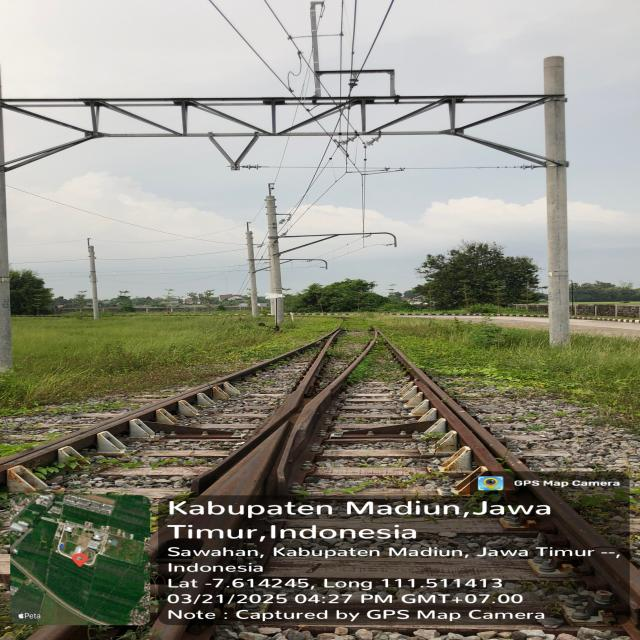rail-detection: (0, 341, 319, 470), (192, 329, 340, 491), (391, 344, 539, 480), (278, 334, 376, 490), (531, 482, 634, 597)
